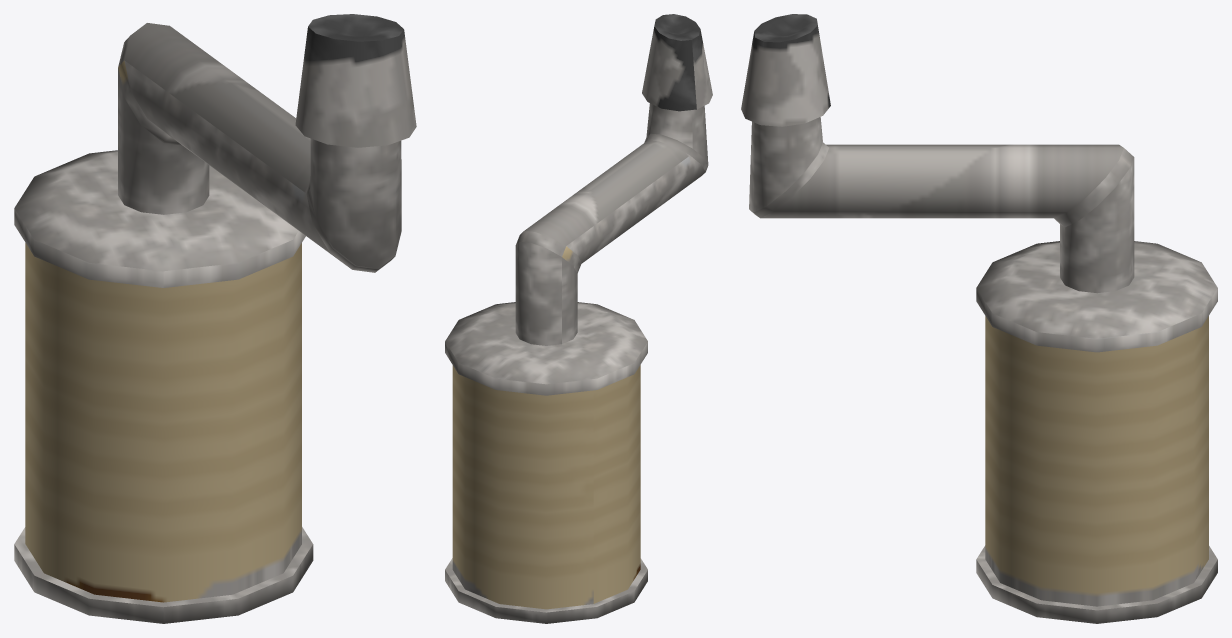
The model's file is Reelything.fbx.
The picture shows the model from 3 angles, left to right: view 1: azimuth 30°, elevation 25°; view 2: azimuth 150°, elevation 25°; view 3: azimuth 270°, elevation 25°; orthographic projection. The views are drawn at different scales.
Visible parts, largest first — view 1: Reel; view 2: Reel; view 3: Reel.
Part boxes in pixels (x1,y1,x2,y2): Reel: (14,14,416,623); Reel: (445,14,712,623); Reel: (741,14,1217,623).
Bounding box in the file's own units: 0.0846 × 0.2143 × 0.1669.
